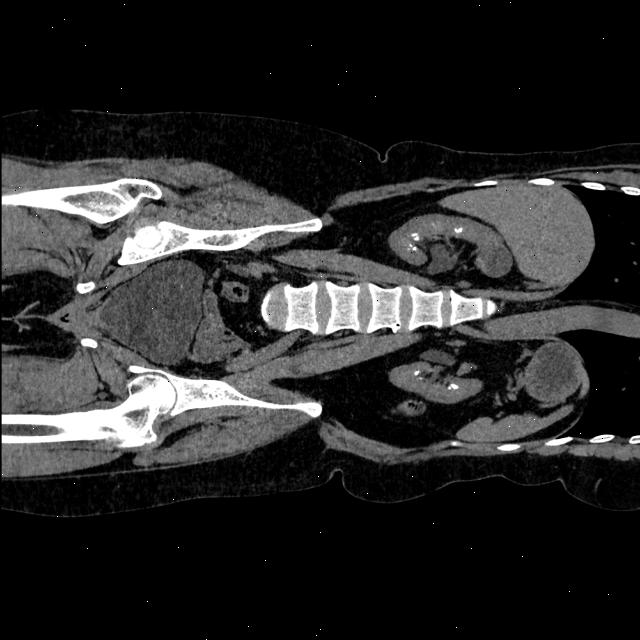kidneystone: (410, 232, 419, 241), (447, 384, 458, 390), (454, 228, 463, 234), (413, 370, 419, 376)
